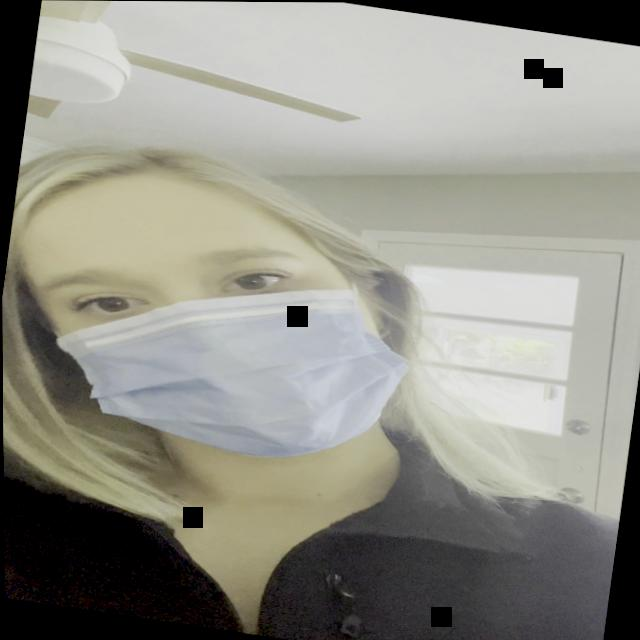Mask: (1, 163, 459, 490)
